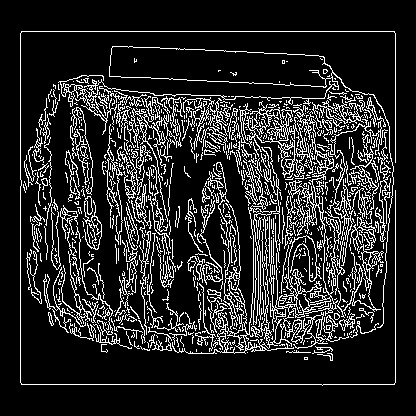buddha-standing: (70, 216, 138, 227)
